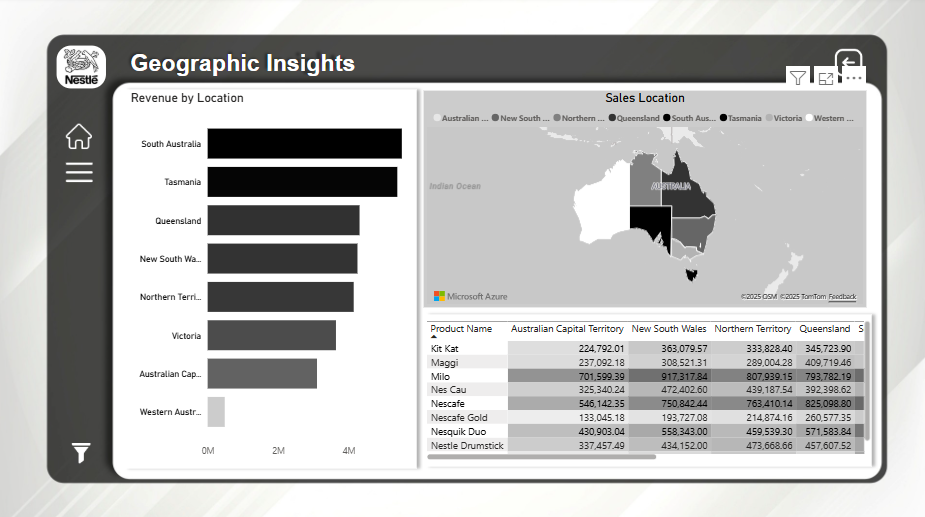

The dashboard page shown, as its layout file describes it:
{"tool":"powerbi","page":{"name":"Location","canvas":[1280,720],"ordinal":2},"visuals":[{"type":"shape","box":[166.5,118.4,419.8,539.5],"z":0},{"type":"shape","box":[580.8,428,631.7,227.1],"z":1000},{"type":"azureMap","title":"Sales Location","fields":{"Category":["Location.Sales Location"],"Series":["Location.Sales Location"]},"box":[586.3,128,611.1,300],"z":2000},{"type":"clusteredBarChart","title":"Revenue by Location","fields":{"Y":["Sum(Sales.Total Revenue)"],"Category":["Location.Sales Location"]},"box":[178.9,128,392.3,514.8],"z":3000},{"type":"pivotTable","fields":{"Columns":["Location.Sales Location"],"Rows":["Product.Product Name"],"Values":["Sum(Sales.Total Revenue)"]},"box":[586.3,440.4,620.7,202.3],"z":4000},{"type":"image","box":[86.7,169.3,52.3,45.4],"z":5000},{"type":"image","box":[1131.2,55.1,80.4,72.9],"z":6000},{"type":"image","box":[86.7,223.3,52.3,46.8],"z":7000},{"type":"image","box":[96.7,602.8,38.6,50.1],"z":9000}]}

Visuals, with their boxes on the page's 1280x720 design canvas (x1, y1, x2, y2). These are canvas units, not pixel positions in the 925x517 screenshot, which may show the page scaled, cropped or inside an application window:
shape: l=166, t=118, r=586, b=658
shape: l=581, t=428, r=1212, b=655
"Sales Location" azureMap: l=586, t=128, r=1197, b=428
"Revenue by Location" clusteredBarChart: l=179, t=128, r=571, b=643
pivotTable - Location.Sales Location x Product.Product Name: l=586, t=440, r=1207, b=643
image: l=87, t=169, r=139, b=215
image: l=1131, t=55, r=1212, b=128
image: l=87, t=223, r=139, b=270
image: l=97, t=603, r=135, b=653
